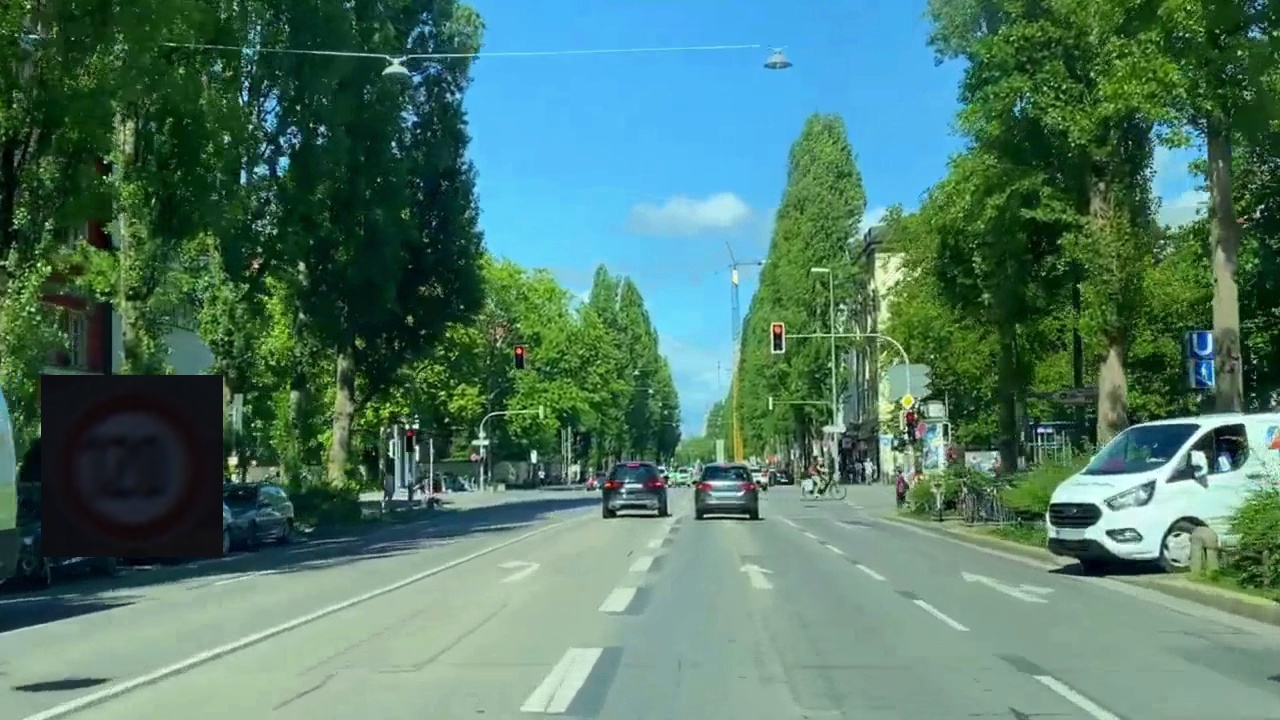Speed 120: (41, 375, 223, 557)
